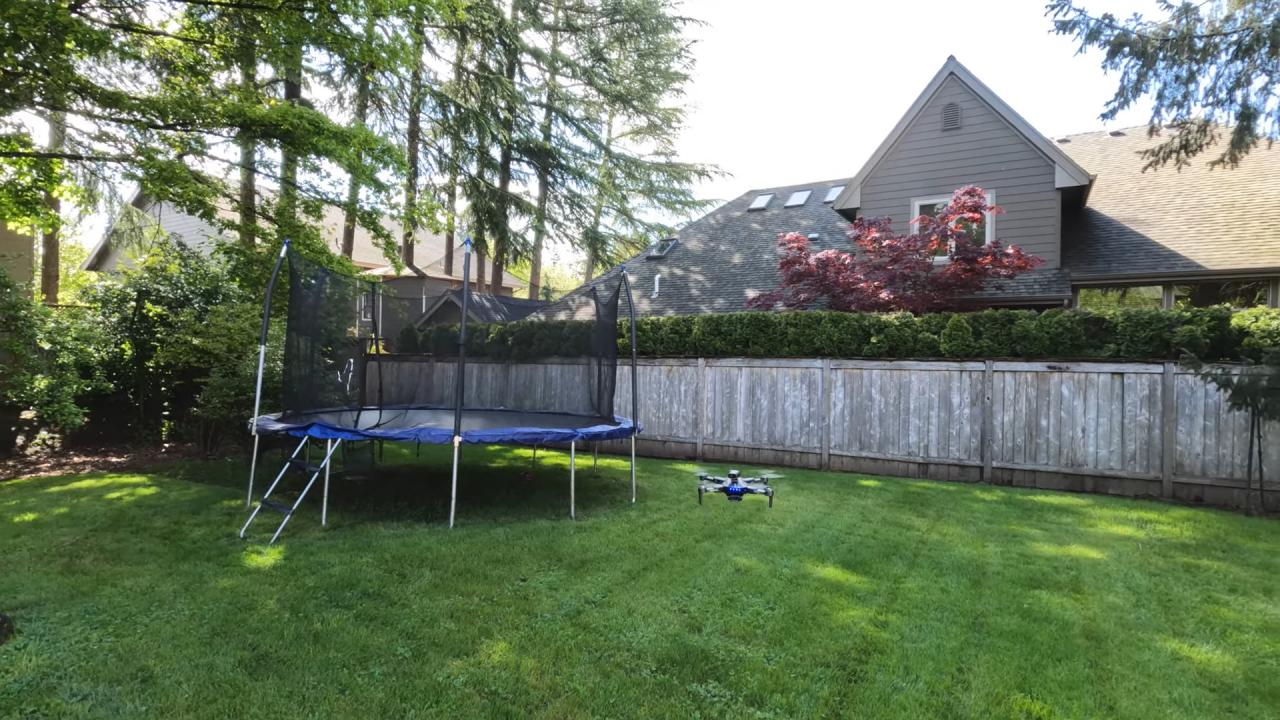Drone: (670, 450, 794, 524)
